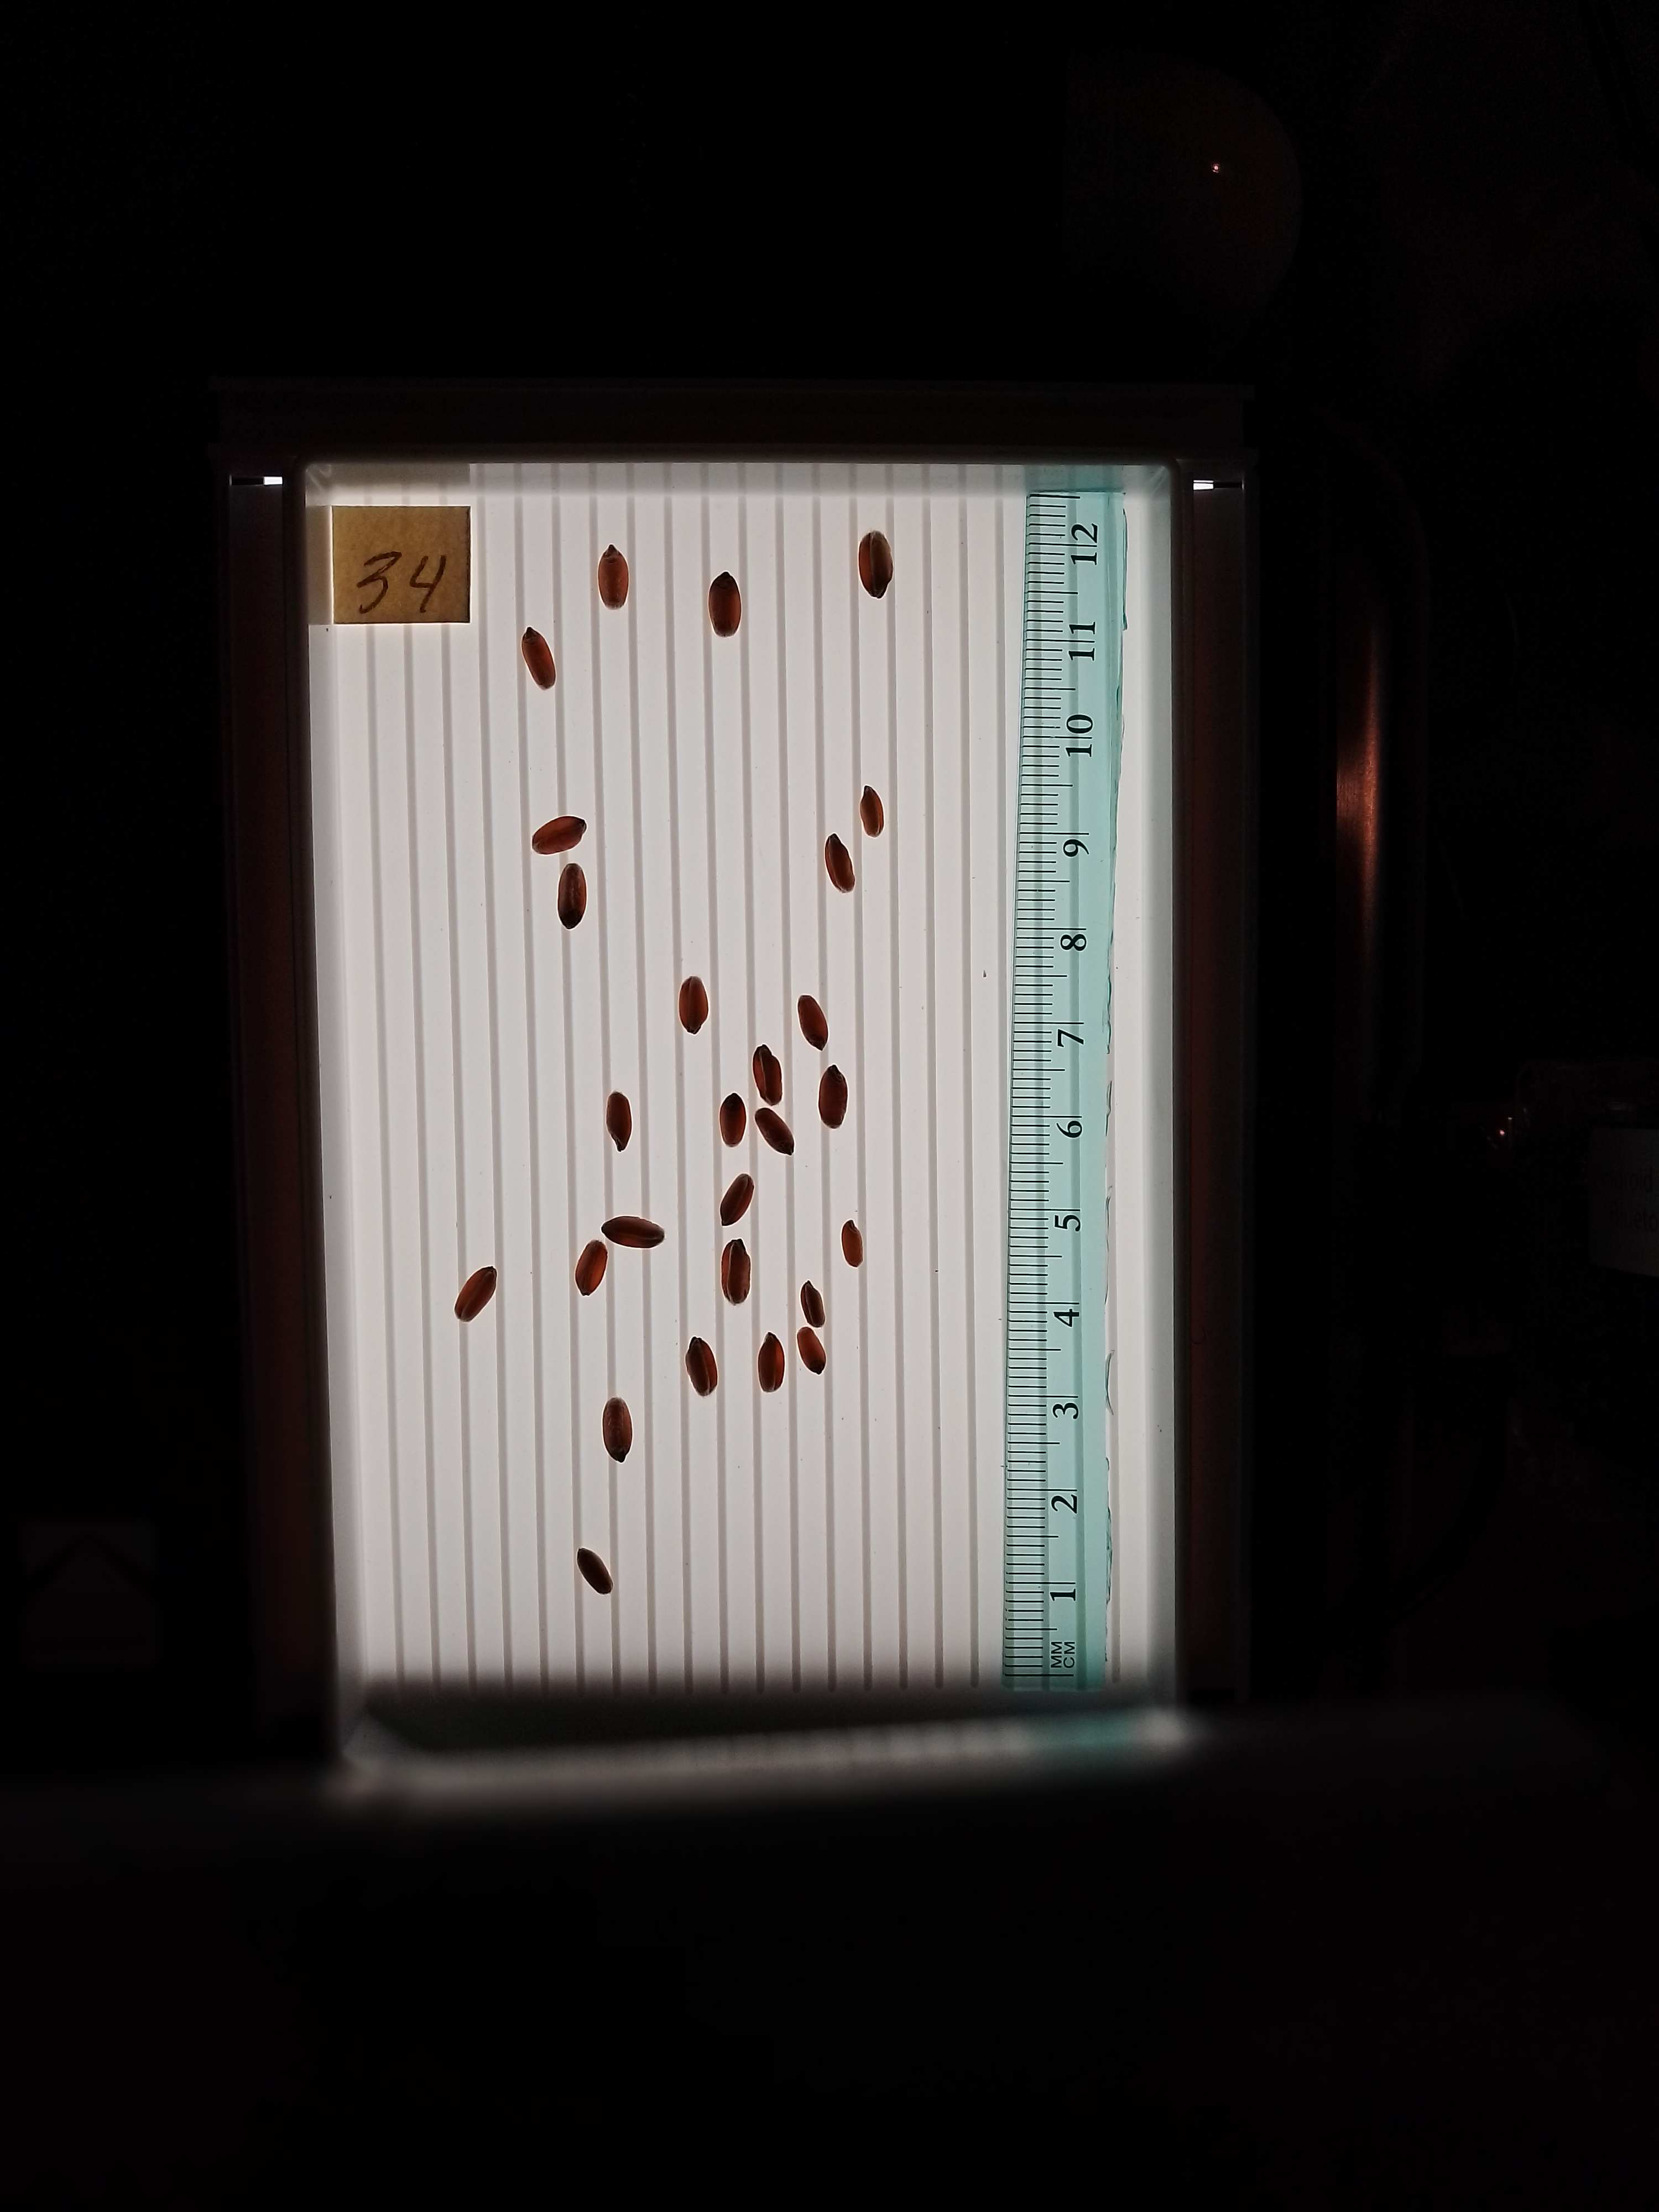seed mask: (453, 1266, 498, 1322), (857, 531, 894, 599), (708, 572, 742, 637), (522, 627, 556, 691), (601, 1216, 664, 1249), (532, 816, 587, 854), (603, 1398, 634, 1463), (721, 1238, 750, 1305), (754, 1108, 795, 1155), (598, 546, 628, 610), (686, 1337, 718, 1397), (558, 863, 587, 928), (576, 1240, 609, 1296), (825, 834, 855, 894), (820, 1065, 848, 1128), (720, 1173, 754, 1227), (753, 1044, 782, 1105), (797, 995, 829, 1050), (576, 1547, 613, 1595), (679, 976, 708, 1035), (606, 1092, 632, 1153), (758, 1333, 784, 1392), (796, 1327, 827, 1374), (720, 1094, 746, 1147), (860, 785, 884, 837), (801, 1281, 825, 1327), (841, 1219, 863, 1267)
